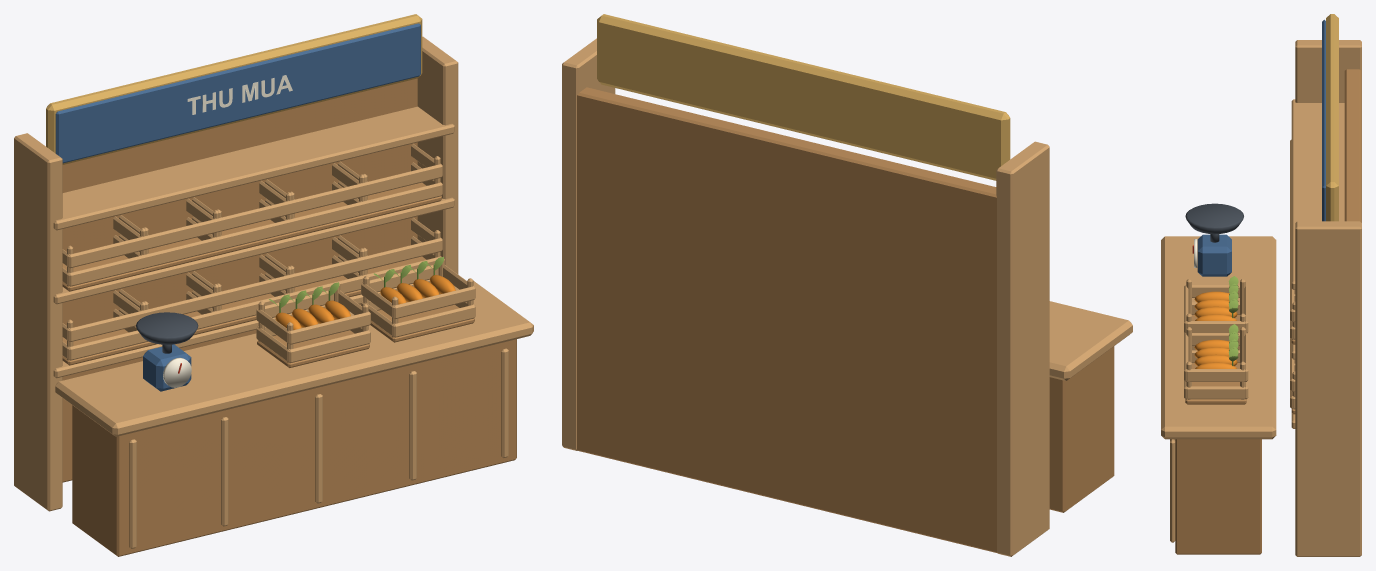
The model's file is produce-stall.glb.
3 renders of one model, left to right at view 1: azimuth 30°, elevation 25°; view 2: azimuth 150°, elevation 25°; view 3: azimuth 270°, elevation 25°, orthographic. The views are drawn at different scales.
Parts seen in each view (by area): view 1: produce_stall; view 2: produce_stall; view 3: produce_stall.
Part boxes in pixels (left/top/right/bottom): produce_stall: left=14, top=14, right=533, bottom=556; produce_stall: left=562, top=14, right=1132, bottom=556; produce_stall: left=1161, top=14, right=1361, bottom=556.
Bounding box in the file's own units: 3.58 × 3.16 × 1.57.
